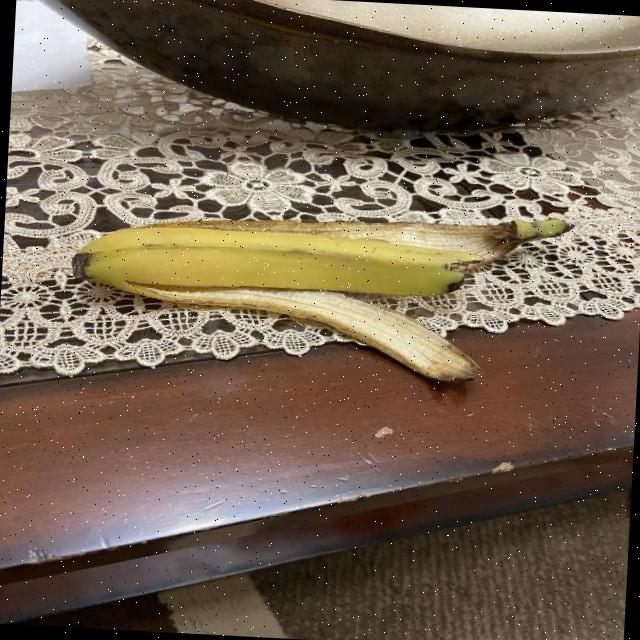banana-peel: (70, 191, 568, 313), (118, 278, 486, 386)
